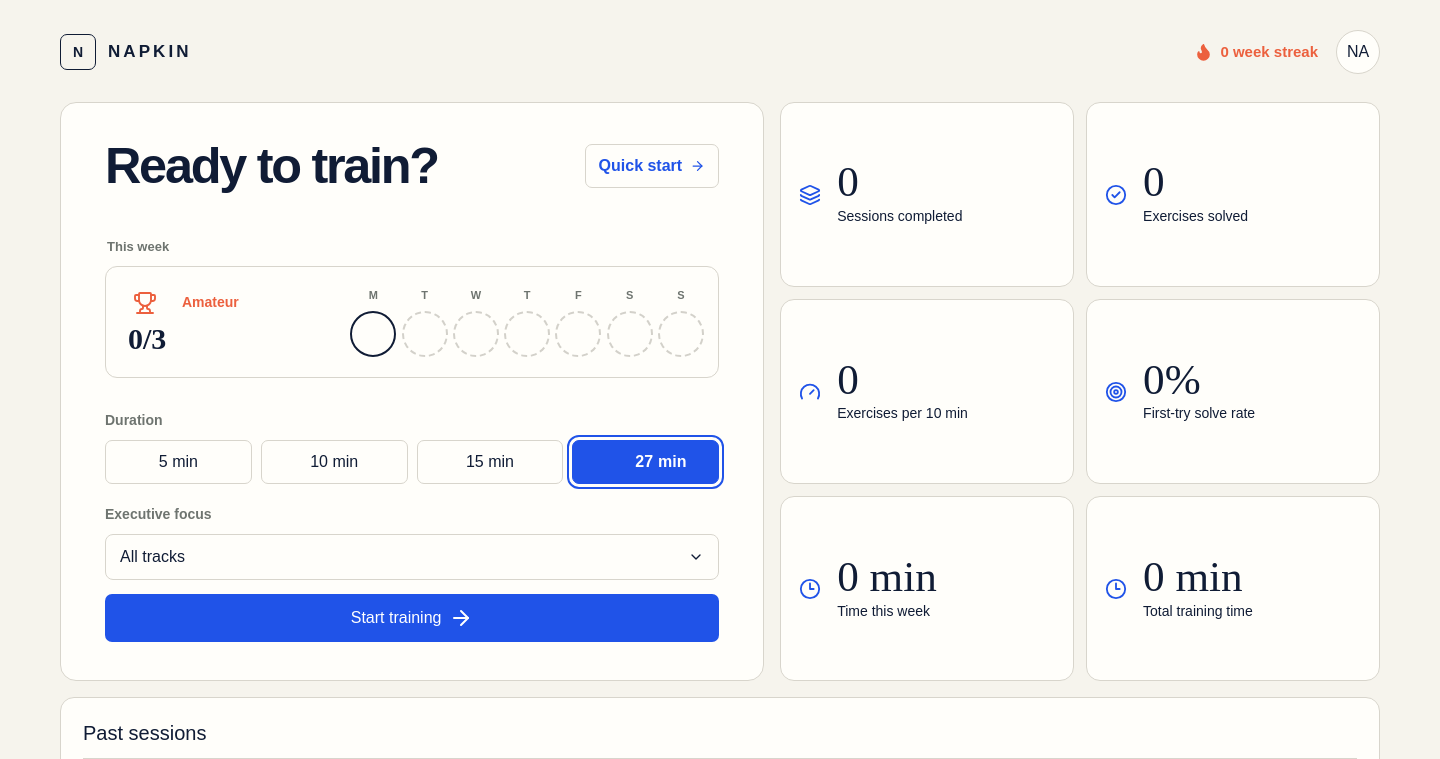
Napkin V1 flow › Quick start stays at ten minutes without overwriting a saved duration
The width and height of the screenshot is (1440, 759).
Expected: the number field named "Custom duration in minutes" is shown, [605, 450, 653, 474]
Click the button "Quick start" at x=652, y=166, box [585, 144, 719, 188]
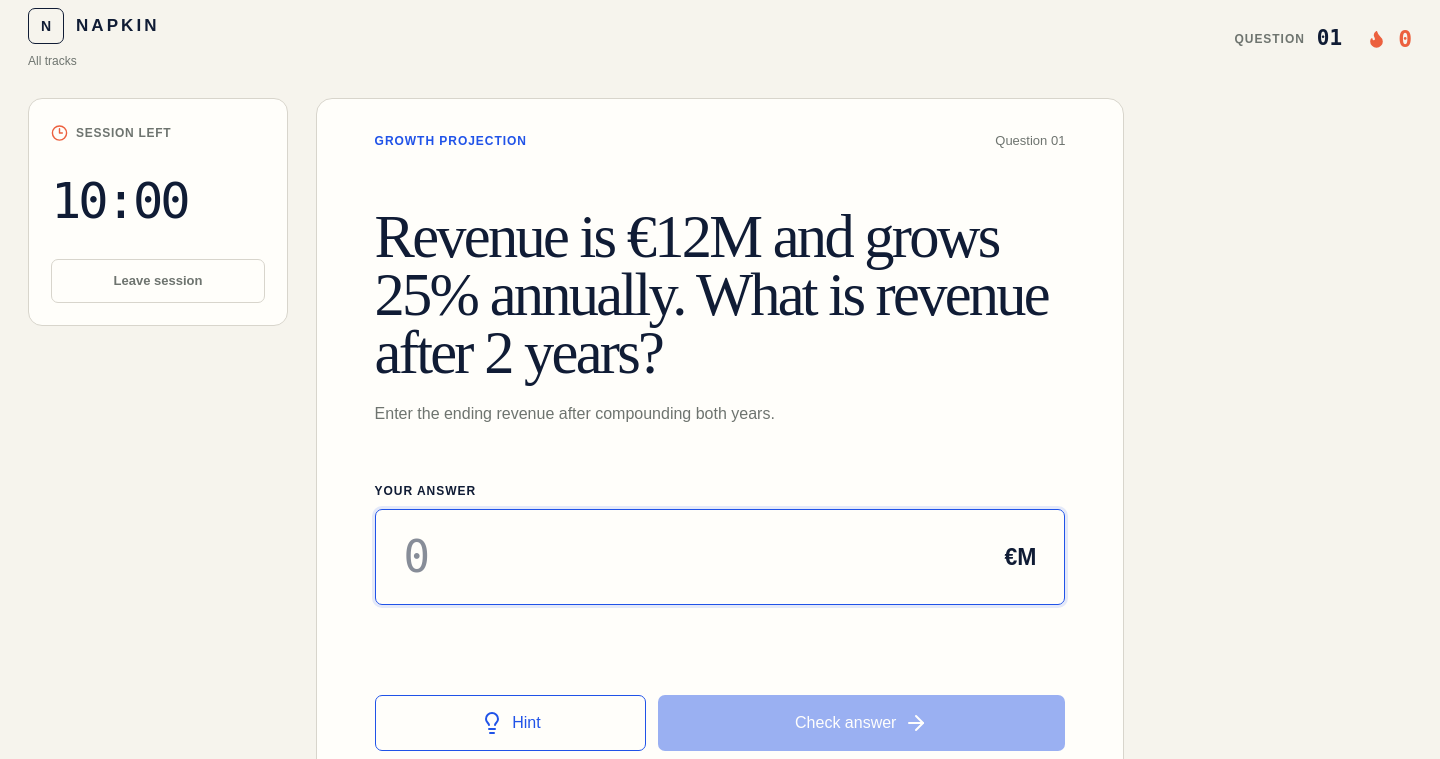
Expected: the text "10:00" is shown, [51, 171, 188, 230]
